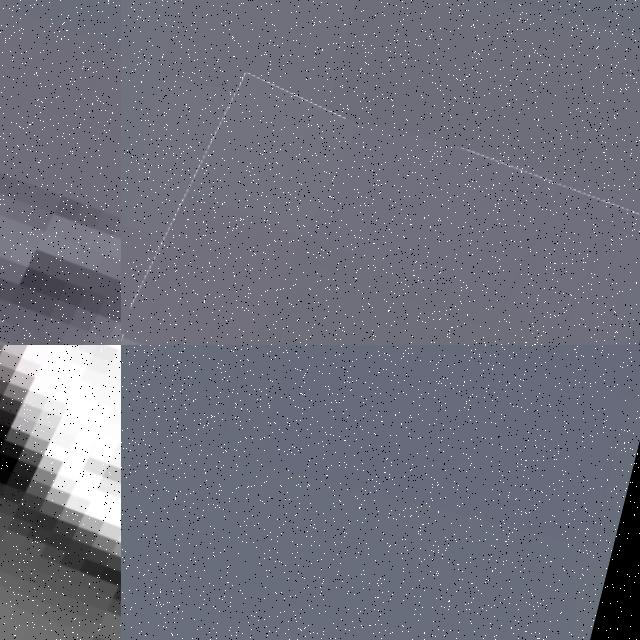0: (121, 79, 640, 345), (0, 0, 121, 345)
drone: (0, 345, 121, 640)
